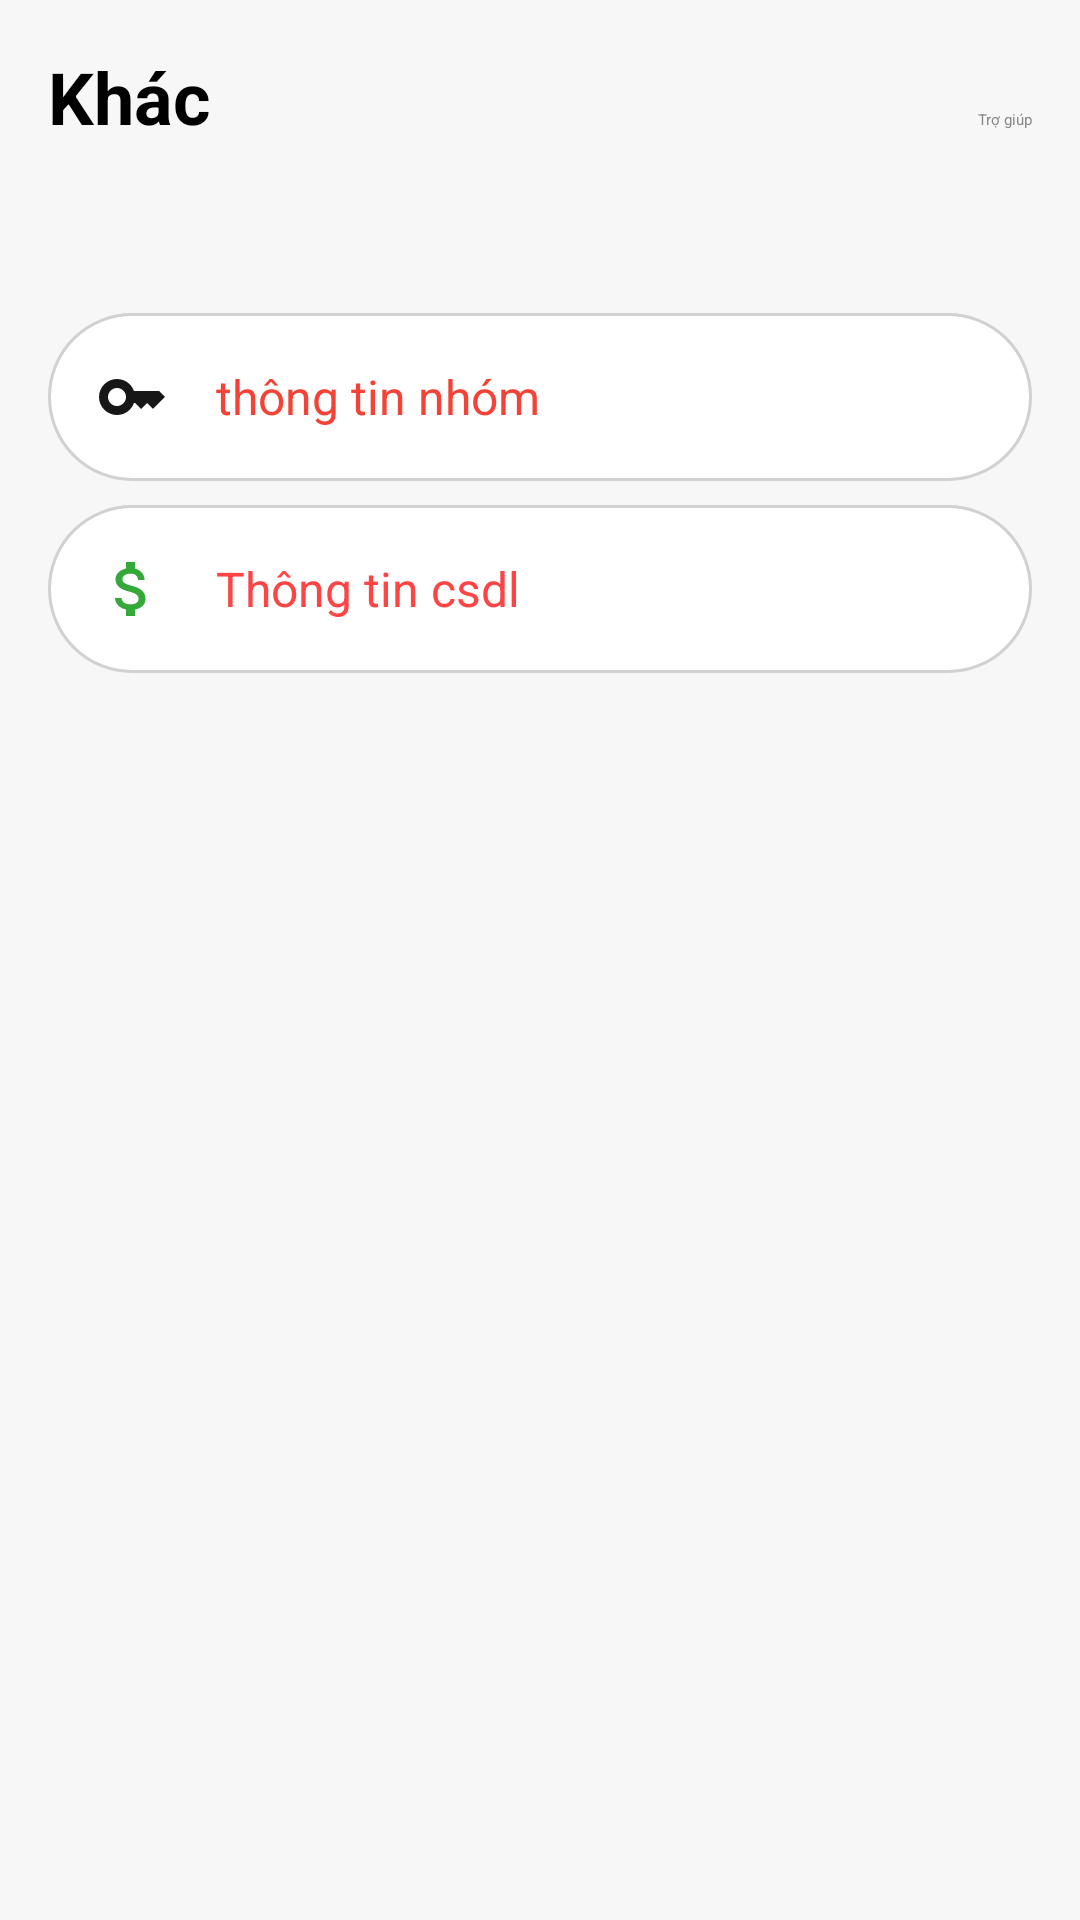

Icons on this 1080*1920 Android screen, each with the point to tap as [x,y]:
key: [132,397]
money: [130,589]
